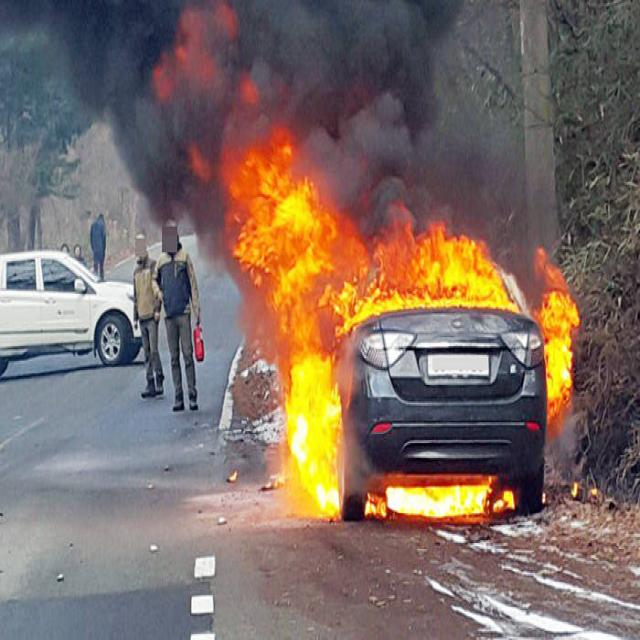fire: (277, 231, 524, 326), (288, 338, 343, 530), (544, 255, 580, 446)
